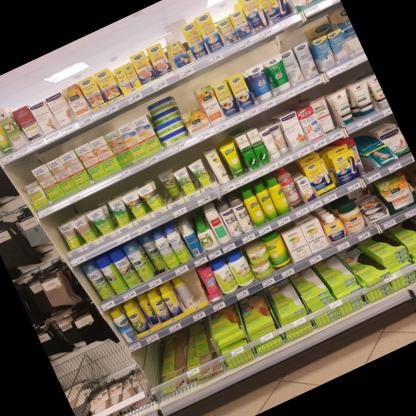empty_space: (145, 155, 187, 209)
